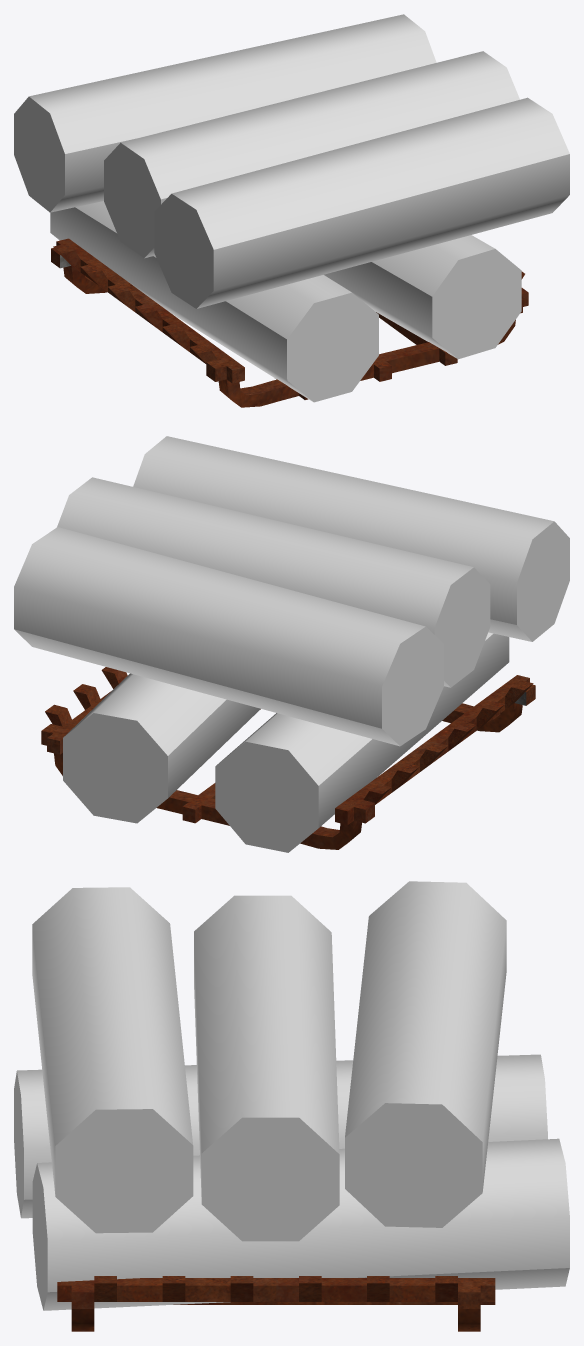
File: Fire.fbx
3 renders of one model, top to bottom at view 1: azimuth 30°, elevation 25°; view 2: azimuth 150°, elevation 25°; view 3: azimuth 270°, elevation 25°, orthographic. The views are drawn at different scales.
Parts seen in each view (by area): view 1: Wood5, Wood4, Wood3, Wood1, Wood2, FireGrate; view 2: Wood4, Wood5, Wood3, Wood1, Wood2, FireGrate; view 3: Wood4, Wood5, Wood3, Wood2, FireGrate, Wood1.
Part boxes in pixels (x1,y1,x2,y2): Wood5: (154,97,569,308); Wood4: (14,14,436,212); Wood3: (104,51,519,258); Wood1: (50,201,378,402); Wood2: (324,235,521,359); FireGrate: (51,238,528,407); Wood4: (14,527,443,746); Wood5: (133,436,569,641); Wood3: (57,477,490,687); Wood1: (215,632,509,852); Wood2: (63,673,260,823); FireGrate: (41,667,535,849); Wood4: (345,881,506,1227); Wood5: (32,887,193,1233); Wood3: (194,895,339,1241); Wood2: (32,1138,569,1310); FireGrate: (57,1276,495,1331); Wood1: (14,1054,547,1218).
Size of the model in its own units: 264 by 137 by 262.
2 materials, 1 textured.
